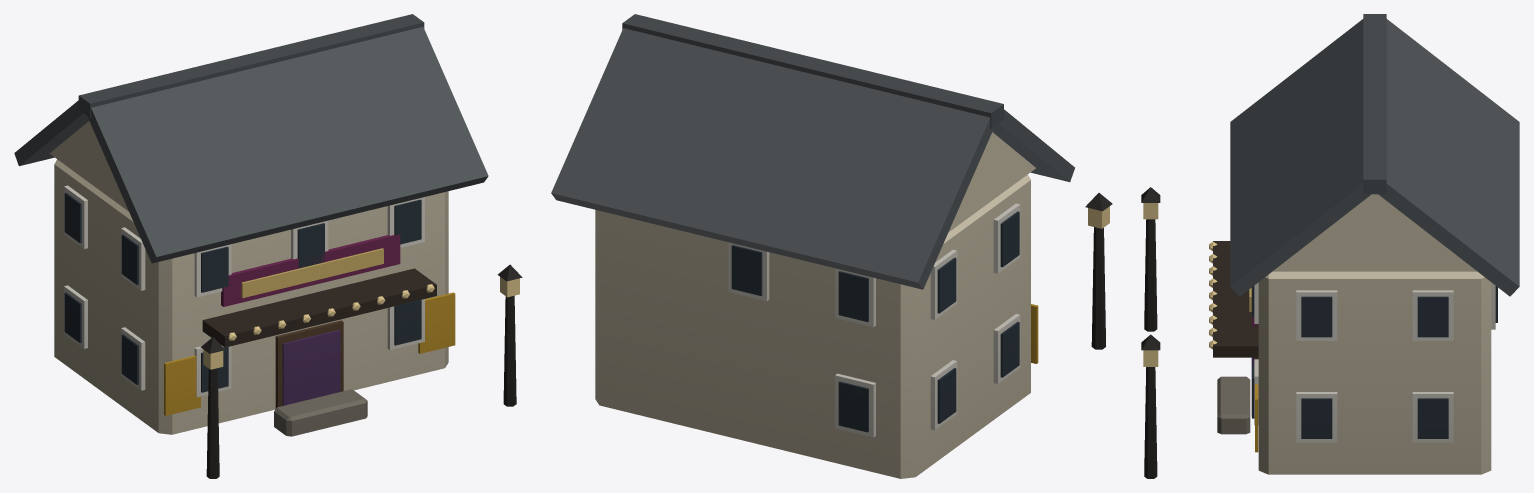
File: musichall.glb
3 views of the same model, side by side, from view 1: azimuth 30°, elevation 25°; view 2: azimuth 150°, elevation 25°; view 3: azimuth 270°, elevation 25° (orthographic). The views are drawn at different scales.
Visible parts, largest first — view 1: musichall_model; view 2: musichall_model; view 3: musichall_model.
Part boxes in pixels (x1,y1,x2,y2): musichall_model: [14, 14, 522, 478]; musichall_model: [551, 14, 1112, 478]; musichall_model: [1141, 14, 1519, 478].
Bounding box in the file's own units: 0.945 × 0.8433 × 0.911.
